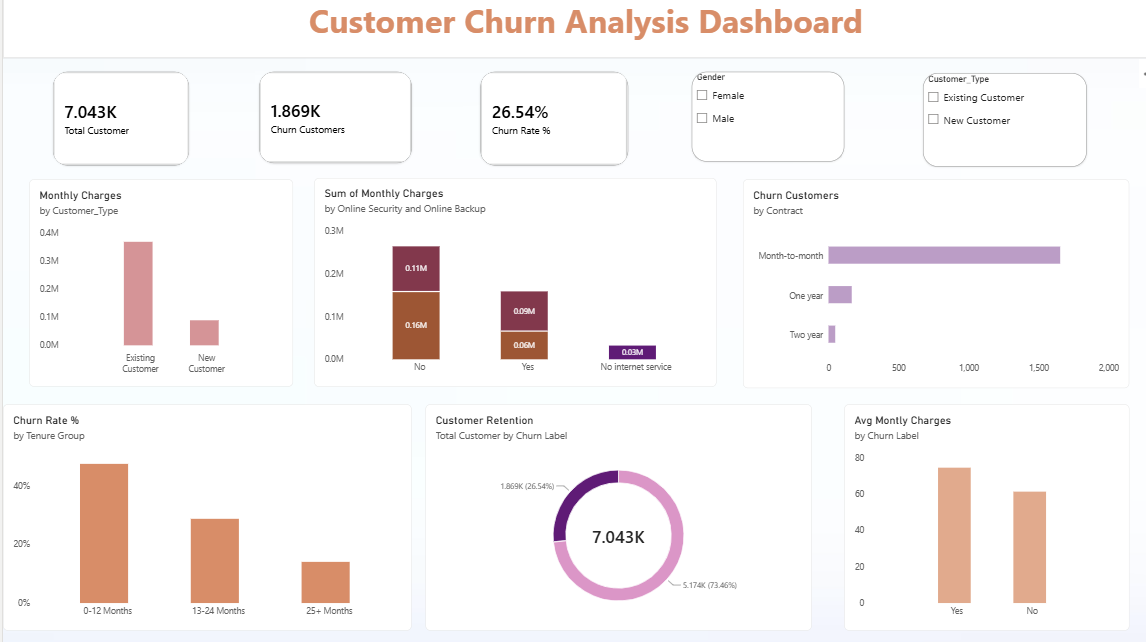

This screenshot's page, from the dashboard's own definition file:
{"tool":"powerbi","page":{"name":"Page 1","canvas":[1920,1080],"ordinal":0},"visuals":[{"type":"textbox","box":[0,16.5,1920.4,98.8],"z":0},{"type":"cardVisual","fields":{"Data":["Calculated measure.Total Customer"]},"box":[82.3,137.9,224.4,154.4],"z":1000},{"type":"cardVisual","fields":{"Data":["Calculated measure.churn rate %"]},"box":[786.3,137.9,242.9,154.4],"z":2000},{"type":"cardVisual","fields":{"Data":["Calculated measure.churn customers"]},"box":[422,137.9,251.1,150.3],"z":3000},{"type":"donutChart","title":"Customer Retention","fields":{"Y":["Calculated measure.Total Customer"],"Category":["churn.Churn Label"]},"box":[695.7,685.4,636,372.6],"z":4000},{"type":"barChart","fields":{"Category":["churn.Contract"],"Y":["Calculated measure.churn customers"]},"box":[1218.5,314.9,636,343.7],"z":5000},{"type":"columnChart","fields":{"Category":["churn.Online Security"],"Y":["Sum(churn.Monthly Charges)"],"Series":["churn.Online Backup"]},"box":[512.5,312.9,662.8,343.7],"z":6000},{"type":"columnChart","fields":{"Y":["Calculated measure.churn rate %"],"Category":["churn.Tenure Group"]},"box":[0,685.4,673.1,372.6],"z":7000},{"type":"columnChart","fields":{"Category":["churn.Churn Label"],"Y":["Calculated measure.Avg_Montly_Charges"]},"box":[1385.3,685.4,469.3,372.6],"z":8000},{"type":"clusteredColumnChart","fields":{"Category":["churn.Customer_Type"],"Y":["Sum(churn.Monthly Charges)"]},"box":[43.2,314.9,434.3,341.7],"z":9000},{"type":"slicer","fields":{"Values":["churn.Gender"]},"box":[1134.1,137.9,251.1,148.2],"z":10000},{"type":"slicer","fields":{"Values":["churn.Customer_Type"]},"box":[1514.9,140,269.6,154.4],"z":11000}]}

Visuals, with their boxes in screenshot pixels (x1, y1, x2, y2), scaled from the page's 1920x1080 canvas onto the 1146x642 screenshot:
textbox: crop(0, 10, 1145, 69)
cardVisual - Calculated measure.Total Customer: crop(49, 82, 183, 174)
cardVisual - Calculated measure.churn rate %: crop(469, 82, 614, 174)
cardVisual - Calculated measure.churn customers: crop(252, 82, 402, 171)
"Customer Retention" donutChart: crop(415, 407, 795, 629)
barChart - churn.Contract x Calculated measure.churn customers: crop(727, 187, 1107, 392)
columnChart - churn.Online Security x Sum(churn.Monthly Charges): crop(306, 186, 702, 390)
columnChart - Calculated measure.churn rate % x churn.Tenure Group: crop(0, 407, 402, 629)
columnChart - churn.Churn Label x Calculated measure.Avg_Montly_Charges: crop(827, 407, 1107, 629)
clusteredColumnChart - churn.Customer_Type x Sum(churn.Monthly Charges): crop(26, 187, 285, 390)
slicer - churn.Gender: crop(677, 82, 827, 170)
slicer - churn.Customer_Type: crop(904, 83, 1065, 175)
